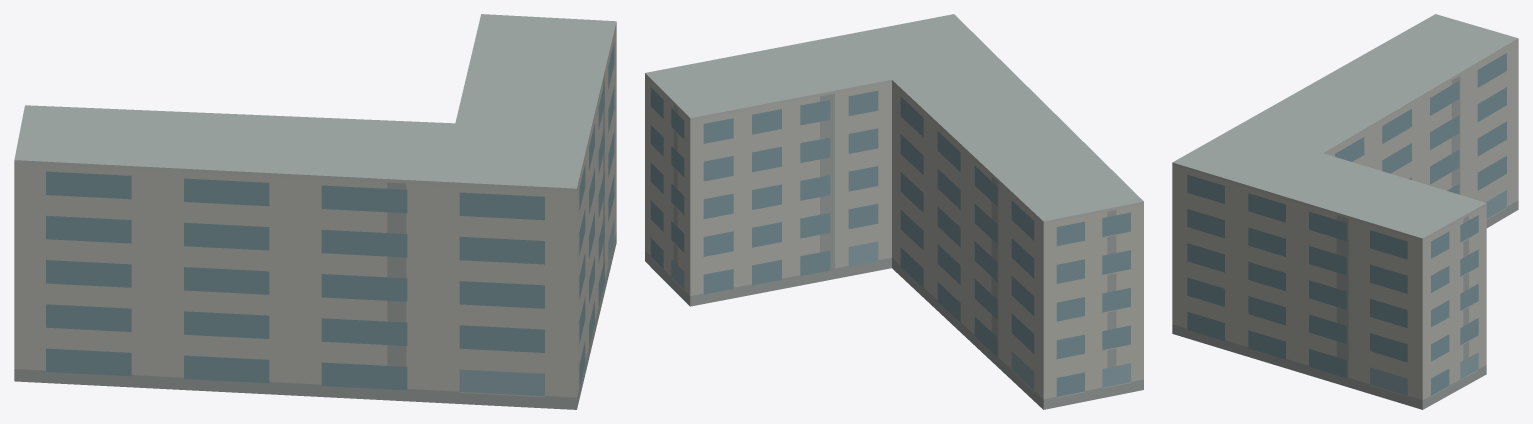
File: residential-7801c639-913c-475e-9640-520ce6eb1562.glb
3 views of the same model, side by side, from view 1: azimuth 30°, elevation 25°; view 2: azimuth 150°, elevation 25°; view 3: azimuth 270°, elevation 25° (orthographic). The views are drawn at different scales.
Parts seen in each view (by area): view 1: residential-7801c639-913c-475e-9640-520ce6eb1562.tmp; view 2: residential-7801c639-913c-475e-9640-520ce6eb1562.tmp; view 3: residential-7801c639-913c-475e-9640-520ce6eb1562.tmp.
Part boxes in pixels (<box>): residential-7801c639-913c-475e-9640-520ce6eb1562.tmp: <box>14,14,616,409</box>; residential-7801c639-913c-475e-9640-520ce6eb1562.tmp: <box>645,14,1143,409</box>; residential-7801c639-913c-475e-9640-520ce6eb1562.tmp: <box>1172,14,1518,409</box>.
Size of the model in its own units: 42.85 by 15.25 by 27.92.
